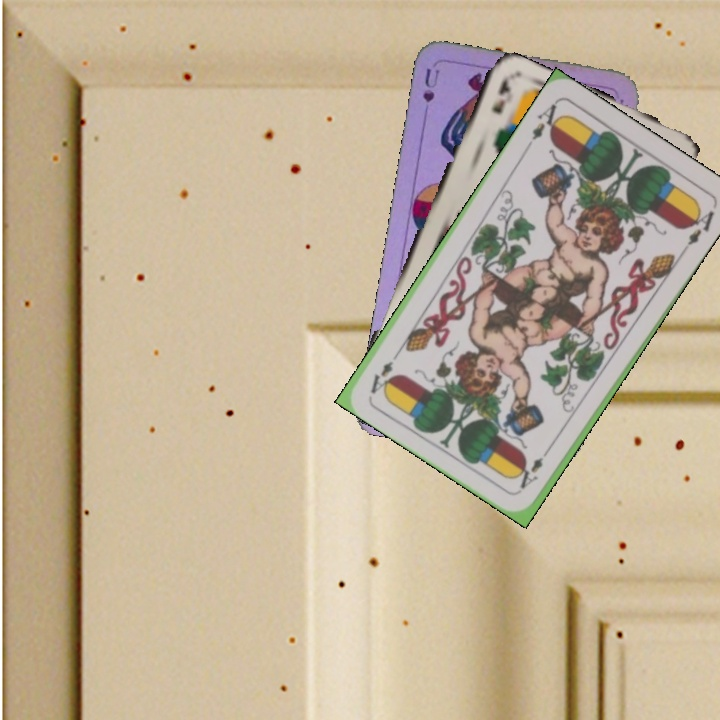EA: (516, 442, 555, 492), (528, 98, 565, 143)
EK: (487, 76, 513, 117)
SU: (419, 64, 442, 123)
